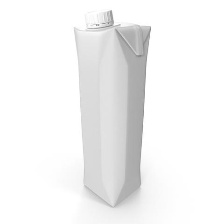carton: (68, 6, 157, 210)
